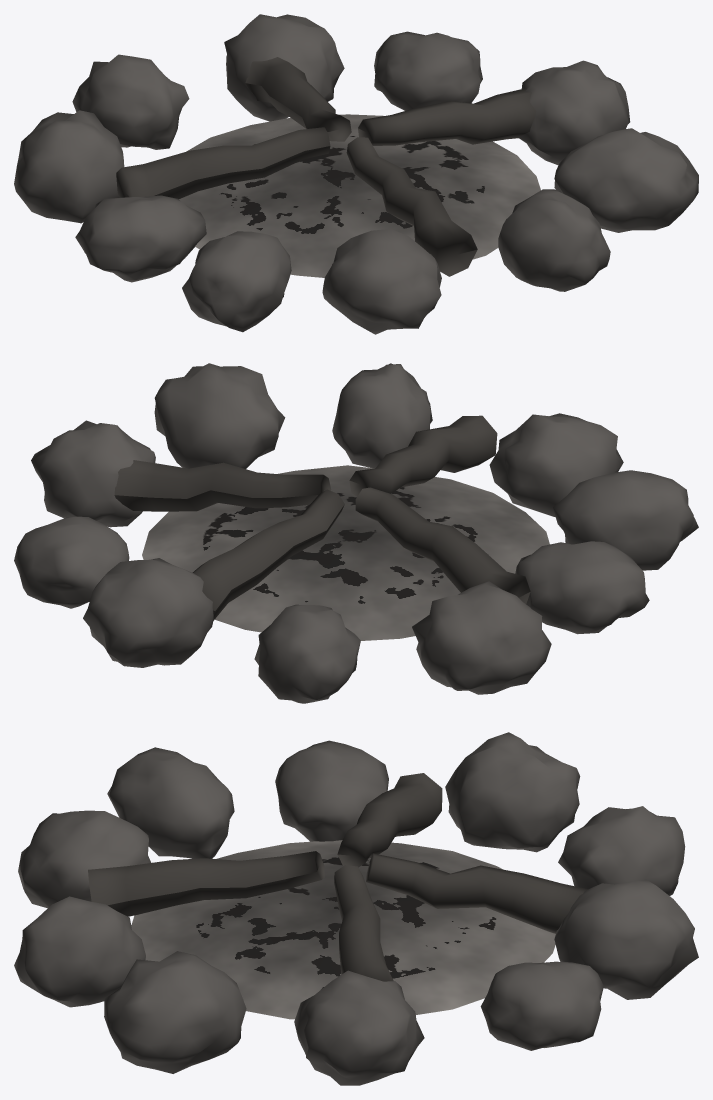
Rendered from cinzas.gltf.
The picture shows the model from 3 angles, top to bottom: view 1: azimuth 30°, elevation 25°; view 2: azimuth 150°, elevation 25°; view 3: azimuth 270°, elevation 25°; orthographic projection. The views are drawn at different scales.
Visible parts, largest first — view 1: Cinza, Pedra1, Pedra3, Pedra6, Pedra2, Pedra5, Pedra4, Toco2, Pedra0, Pedra7, Pedra9, Pedra8 (+3 smaller); view 2: Cinza, Pedra6, Pedra8, Pedra1, Pedra4, Pedra5, Pedra3, Toco0, Pedra0, Pedra7, Pedra9, Pedra2 (+3 smaller); view 3: Cinza, Pedra1, Pedra8, Pedra6, Pedra0, Pedra2, Pedra4, Toco1, Pedra9, Toco3, Pedra3, Pedra5 (+3 smaller).
Boxes of the visible parts, <box> form: Cinza: <box>179,114,540,277</box>; Pedra1: <box>554,128,698,232</box>; Pedra3: <box>322,229,441,334</box>; Pedra6: <box>14,110,124,223</box>; Pedra2: <box>498,189,610,291</box>; Pedra5: <box>75,195,206,282</box>; Pedra4: <box>182,231,291,332</box>; Toco2: <box>116,127,330,199</box>; Pedra0: <box>518,60,630,165</box>; Pedra7: <box>72,54,189,149</box>; Pedra9: <box>374,31,482,110</box>; Pedra8: <box>224,14,344,121</box>; Cinza: <box>142,465,549,640</box>; Pedra6: <box>412,581,551,694</box>; Pedra8: <box>83,558,213,667</box>; Pedra1: <box>154,363,285,468</box>; Pedra4: <box>553,470,698,570</box>; Pedra5: <box>515,541,649,634</box>; Pedra3: <box>489,413,623,516</box>; Toco0: <box>114,460,331,511</box>; Pedra0: <box>31,420,155,527</box>; Pedra7: <box>254,604,360,703</box>; Pedra9: <box>14,516,129,608</box>; Pedra2: <box>332,363,432,468</box>; Cinza: <box>131,840,555,1019</box>; Pedra1: <box>104,951,246,1073</box>; Pedra8: <box>554,879,698,999</box>; Pedra6: <box>445,732,580,852</box>; Pedra0: <box>294,970,424,1085</box>; Pedra2: <box>14,896,145,1007</box>; Pedra4: <box>107,747,234,858</box>; Toco1: <box>88,851,324,916</box>; Pedra9: <box>480,961,603,1050</box>; Toco3: <box>366,853,588,933</box>; Pedra3: <box>18,810,151,908</box>; Pedra5: <box>275,740,388,841</box>.
Size of the model in its own units: 0.5593 by 0.0941 by 0.5412.
Materials: 3 (1 with a texture image).
